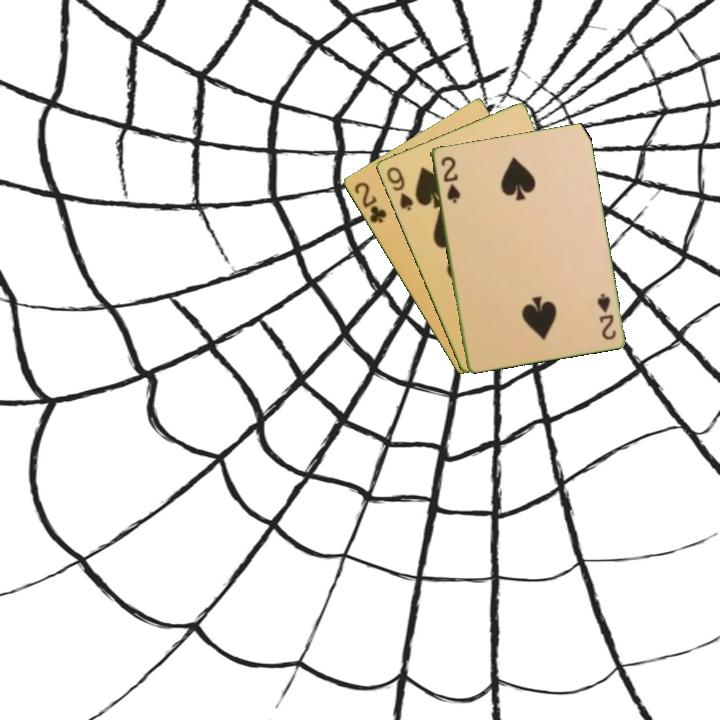2c: (350, 178, 389, 226)
2s: (437, 153, 463, 206), (593, 290, 618, 343)
9s: (382, 163, 416, 214)
